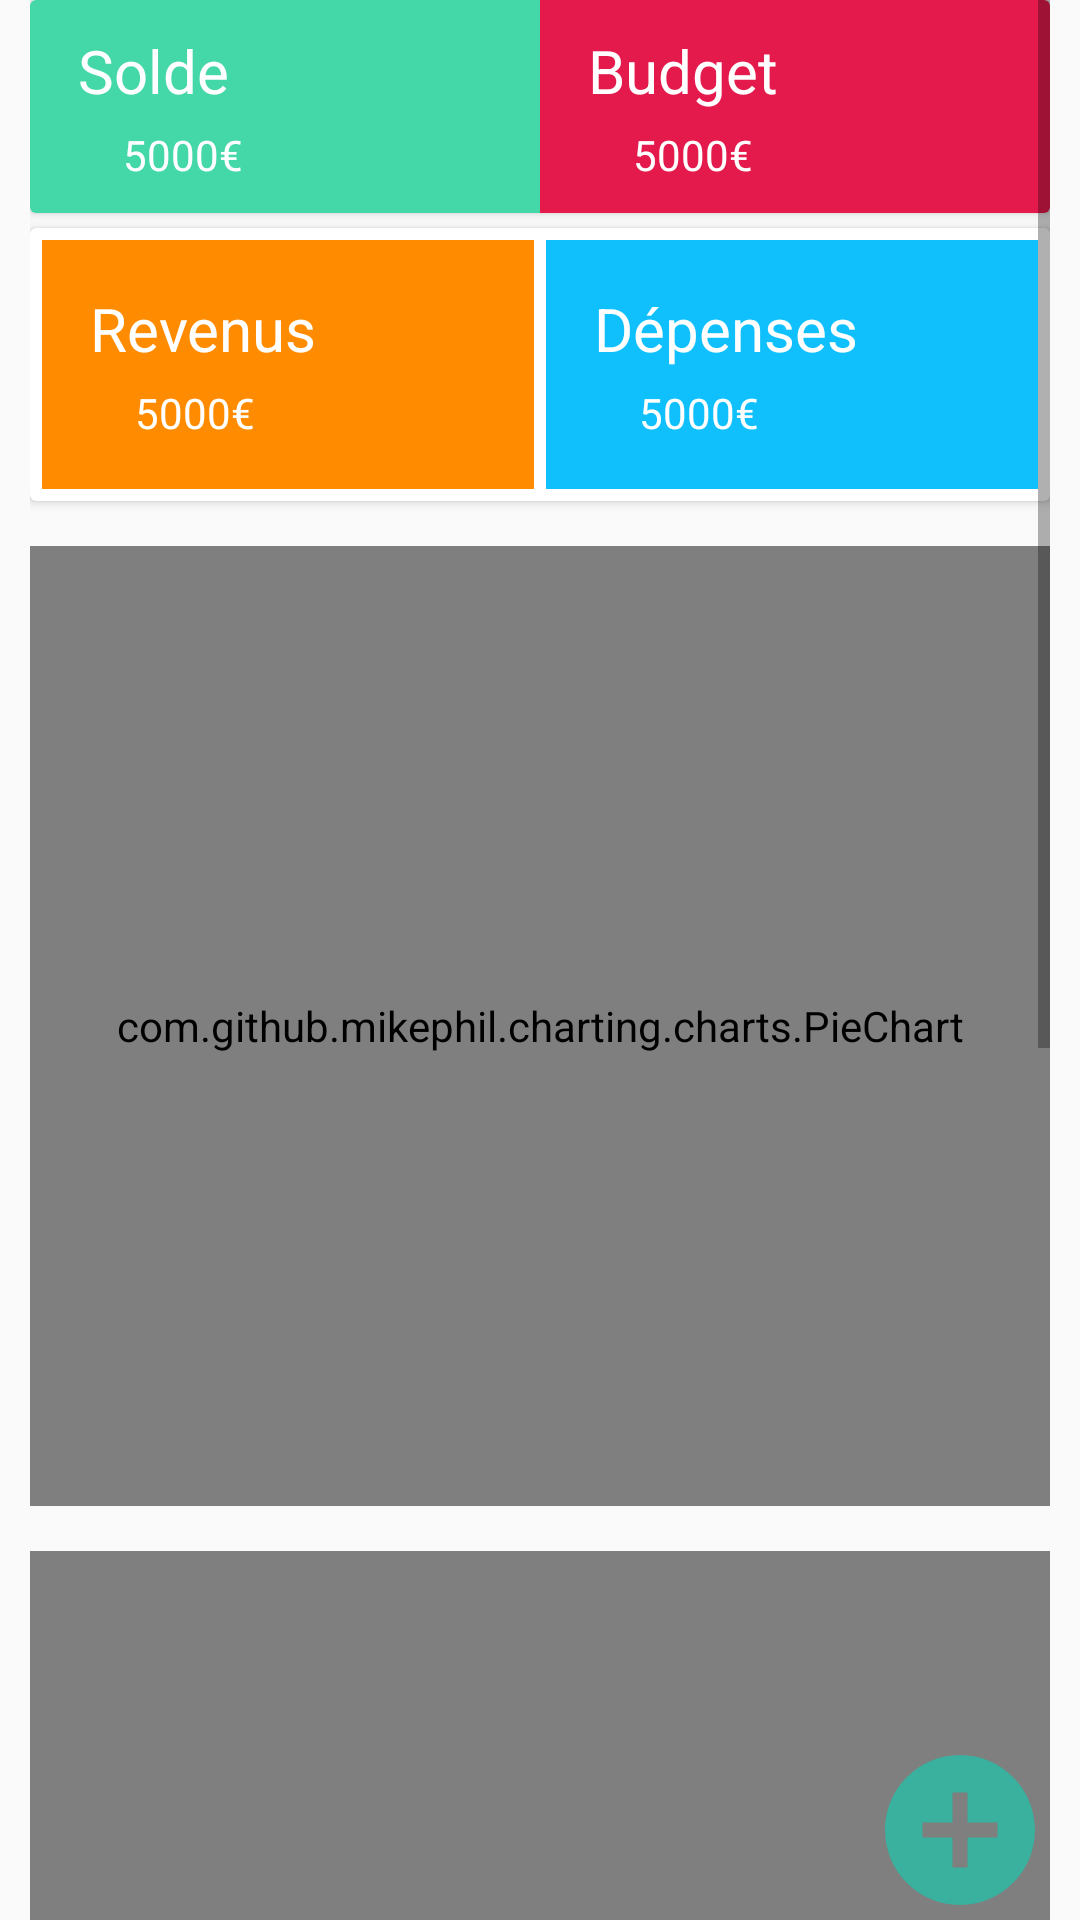

Screen size 1080px x 1920px. Icon name, then its box in pixels as {"x1": x1, "y1": y1, "x2": x2, "y2": y2}:
add circle: {"x1": 885, "y1": 1755, "x2": 1035, "y2": 1905}
